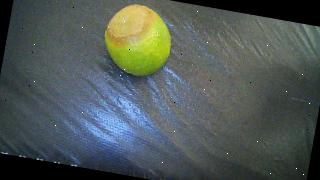DESECHO: (99, 0, 177, 80)
